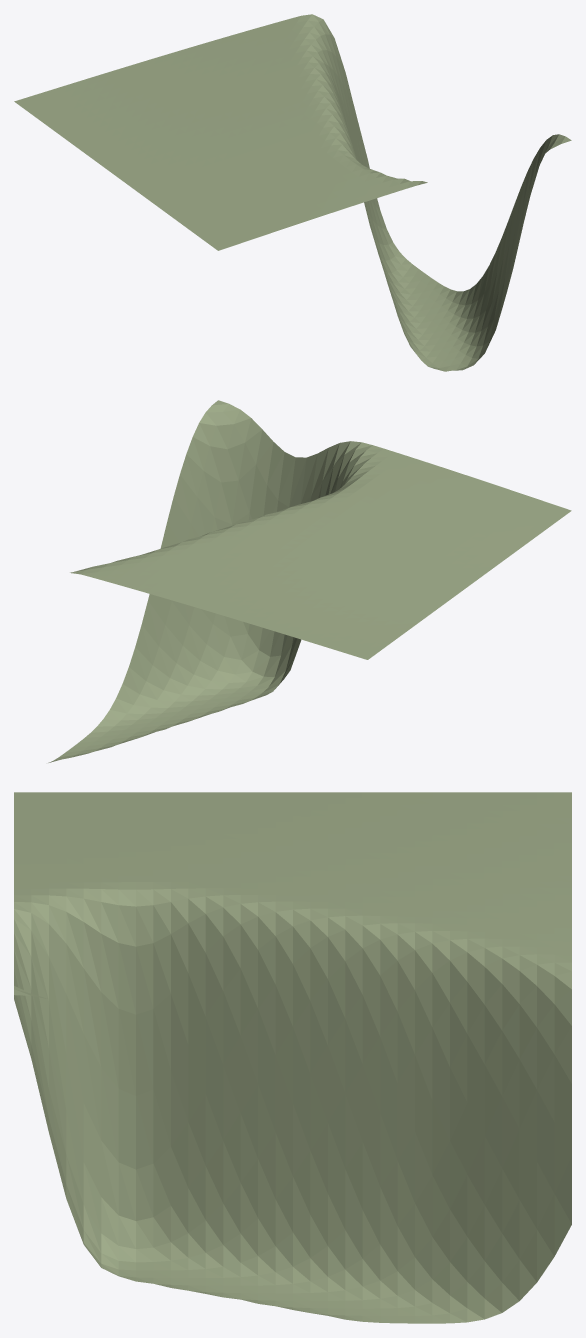
File: canyon-0-5.glb
3 views of the same model, one above another, from view 1: azimuth 30°, elevation 25°; view 2: azimuth 150°, elevation 25°; view 3: azimuth 270°, elevation 25° (orthographic). The views are drawn at different scales.
Visible parts, largest first — view 1: canyon-0-5; view 2: canyon-0-5; view 3: canyon-0-5.
Part boxes in pixels (<box>): canyon-0-5: <box>14,14,571,371</box>; canyon-0-5: <box>48,400,571,762</box>; canyon-0-5: <box>14,792,571,1323</box>.
Bounding box in the file's own units: 128 × 83.15 × 128.
